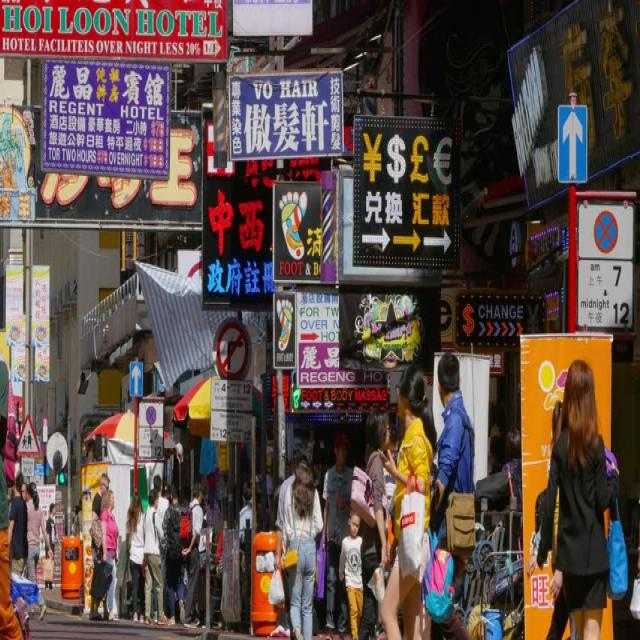body: (535, 354, 631, 638), (377, 361, 435, 639), (428, 349, 479, 612), (472, 424, 533, 639), (346, 406, 394, 638), (543, 398, 581, 640), (0, 358, 26, 640), (277, 441, 313, 640), (320, 431, 354, 638), (272, 438, 306, 640), (88, 487, 122, 621), (24, 480, 55, 623), (196, 469, 236, 572), (140, 486, 169, 626), (178, 481, 204, 631), (161, 481, 187, 627), (337, 505, 365, 639), (7, 471, 31, 624), (146, 474, 170, 626), (88, 470, 111, 622), (126, 490, 147, 626), (44, 500, 62, 591), (383, 425, 402, 496), (631, 496, 640, 624), (68, 490, 90, 534), (239, 477, 254, 540), (418, 576, 432, 640), (262, 464, 276, 521), (489, 429, 506, 468), (164, 477, 189, 503), (15, 480, 36, 500), (363, 437, 374, 464)
